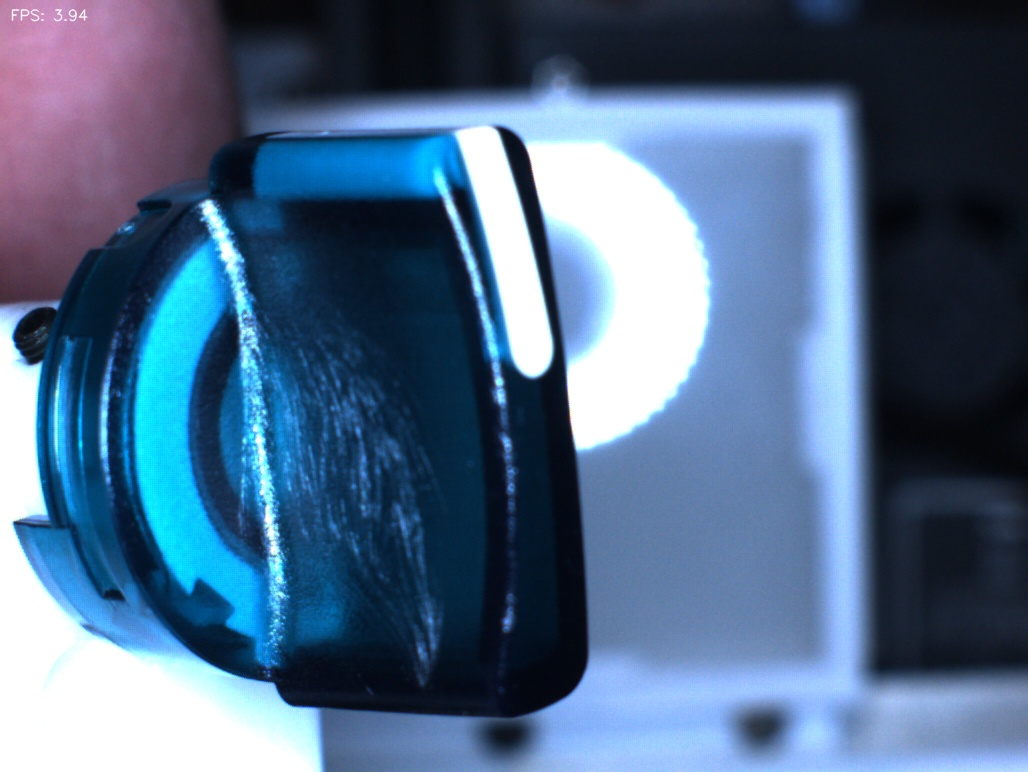Givrage: (255, 306, 468, 685)
